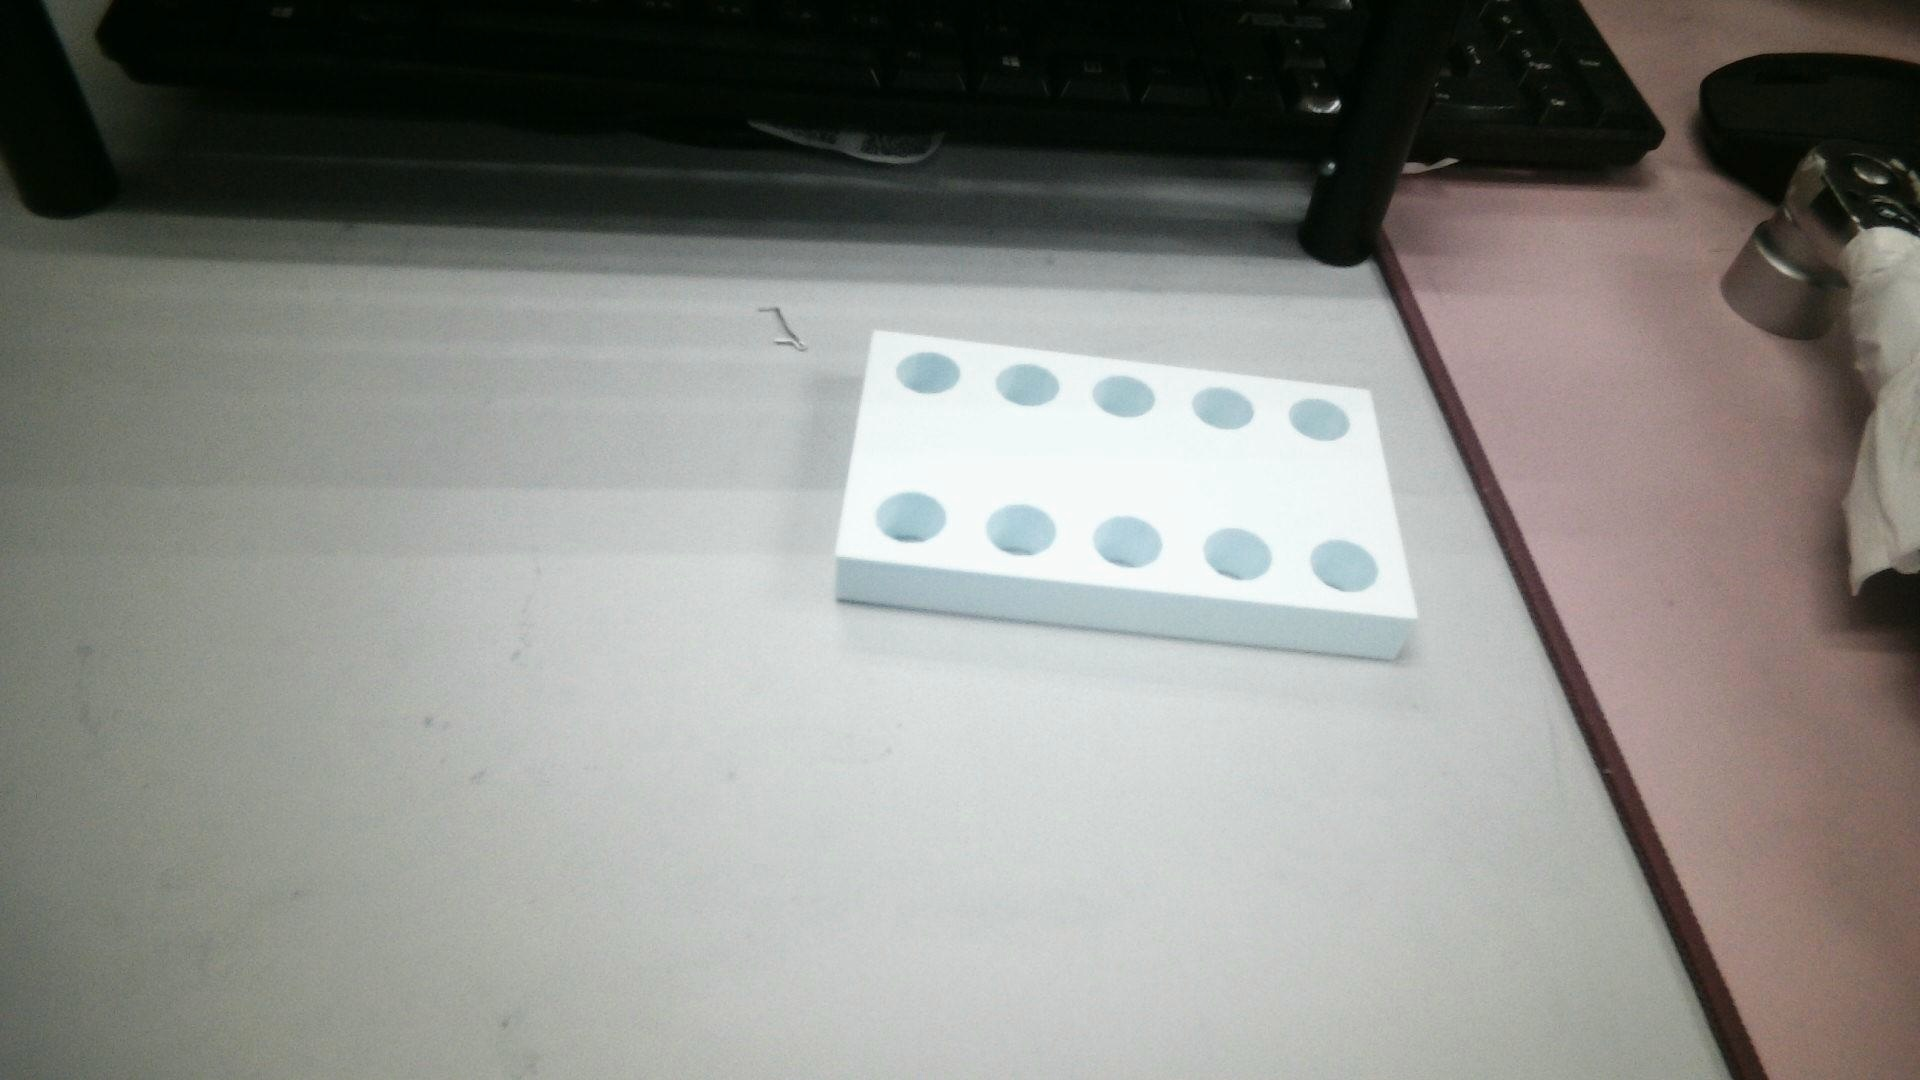hole: (980, 498, 1062, 560), (1089, 510, 1166, 576), (1203, 522, 1274, 588), (872, 489, 948, 546), (1311, 537, 1381, 599), (1287, 396, 1360, 447), (992, 357, 1060, 410), (891, 348, 957, 398), (1095, 365, 1159, 415), (1189, 384, 1255, 429)
obj: (827, 319, 1418, 684)
